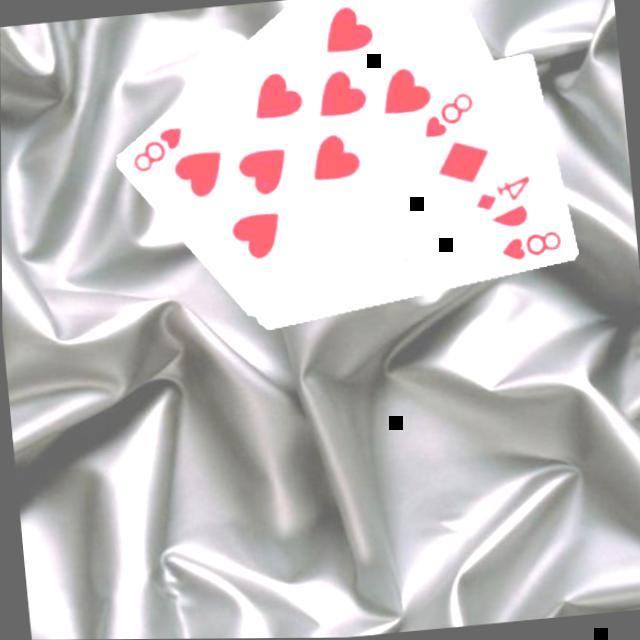4D: (472, 172, 538, 214)
8H: (128, 121, 190, 176), (419, 87, 482, 141), (498, 226, 567, 265)
